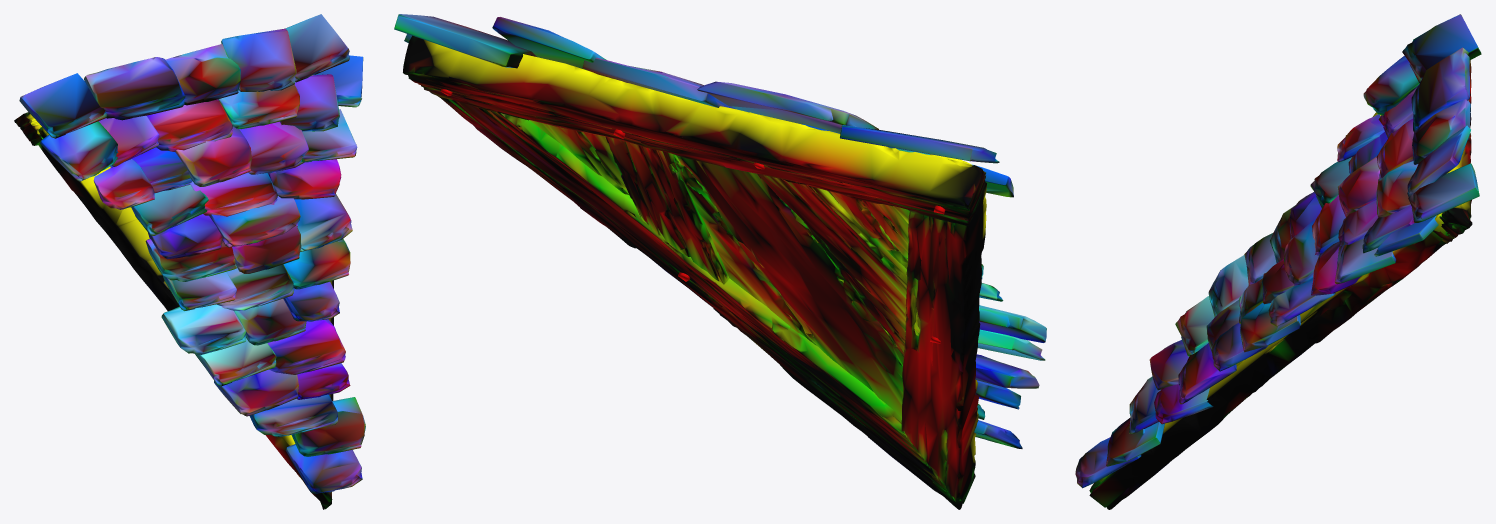
The model's file is SM_Stone_Roof_Tri_Inv.fbx.
The picture shows the model from 3 angles, left to right: view 1: azimuth 30°, elevation 25°; view 2: azimuth 150°, elevation 25°; view 3: azimuth 270°, elevation 25°; orthographic projection. The views are drawn at different scales.
Visible parts, largest first — view 1: SM_Stone_Roof_Tri_Inv_LOD0; view 2: SM_Stone_Roof_Tri_Inv_LOD0; view 3: SM_Stone_Roof_Tri_Inv_LOD0.
Part boxes in pixels (<box>): SM_Stone_Roof_Tri_Inv_LOD0: <box>14,14,365,509</box>; SM_Stone_Roof_Tri_Inv_LOD0: <box>394,14,1046,509</box>; SM_Stone_Roof_Tri_Inv_LOD0: <box>1075,14,1481,509</box>.
Bounding box in the file's own units: 330 × 298 × 336.
